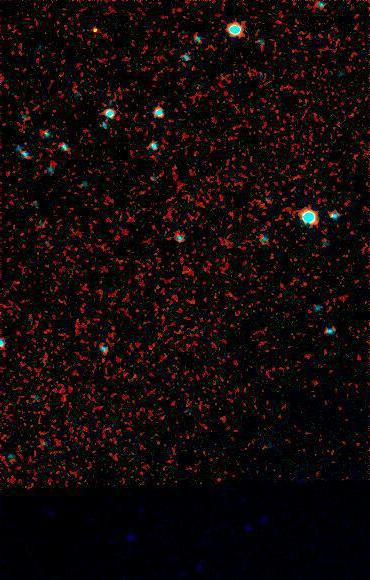star: (90, 11, 120, 41)
